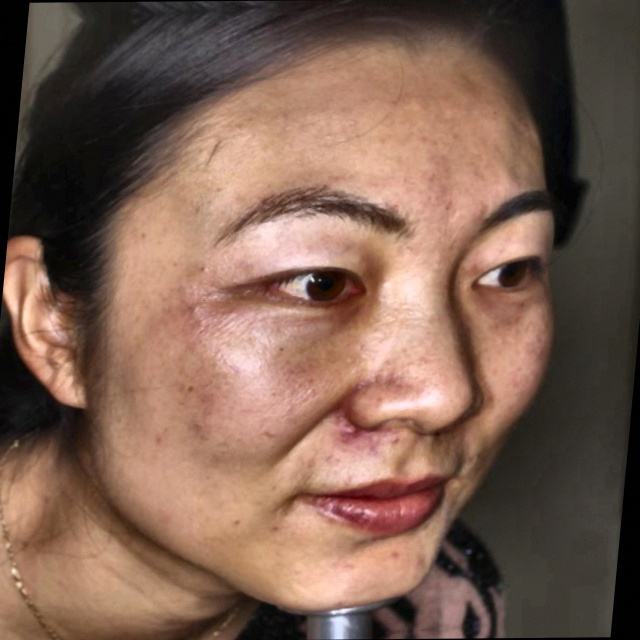comedone: (336, 420, 368, 444)
